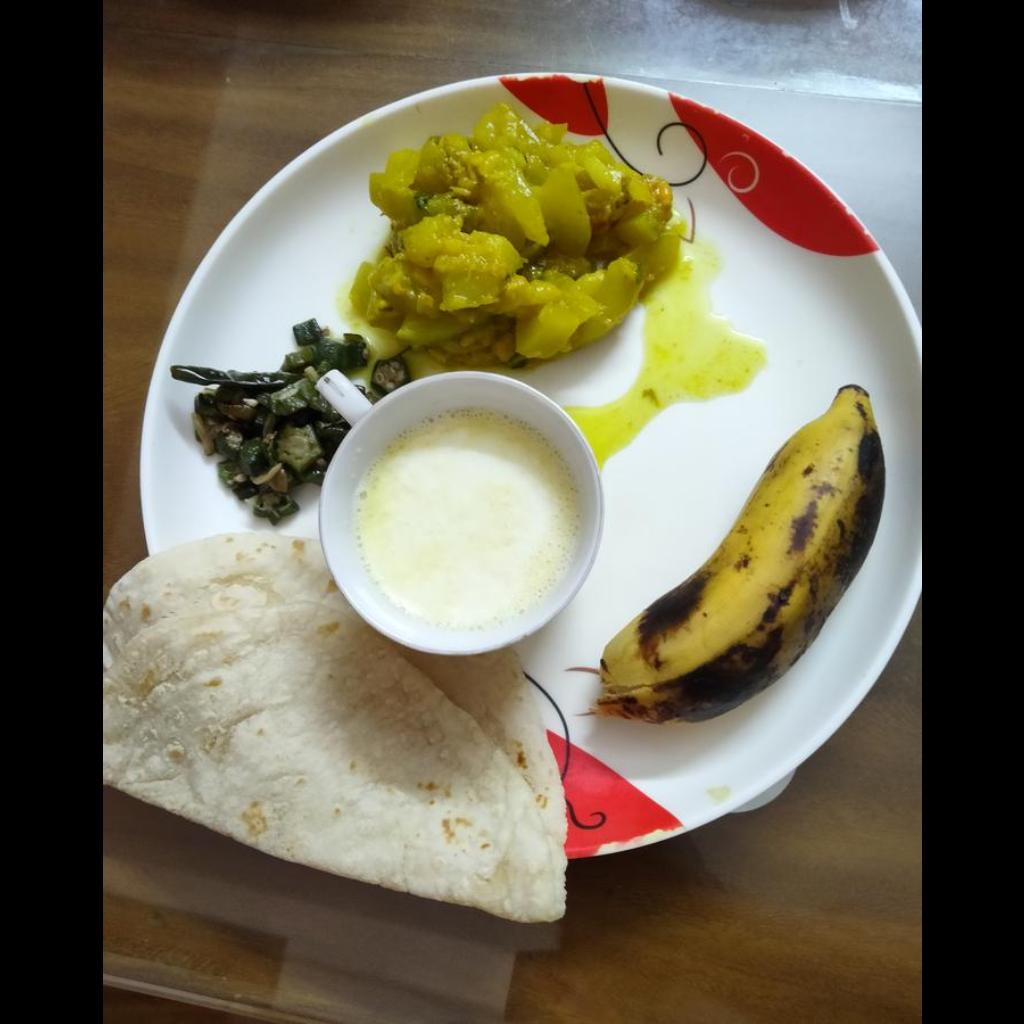banana: (595, 382, 882, 727)
milk: (351, 415, 576, 634)
ruti: (102, 530, 564, 923)
vaji: (167, 318, 398, 519)
vegetable: (356, 105, 686, 363)
